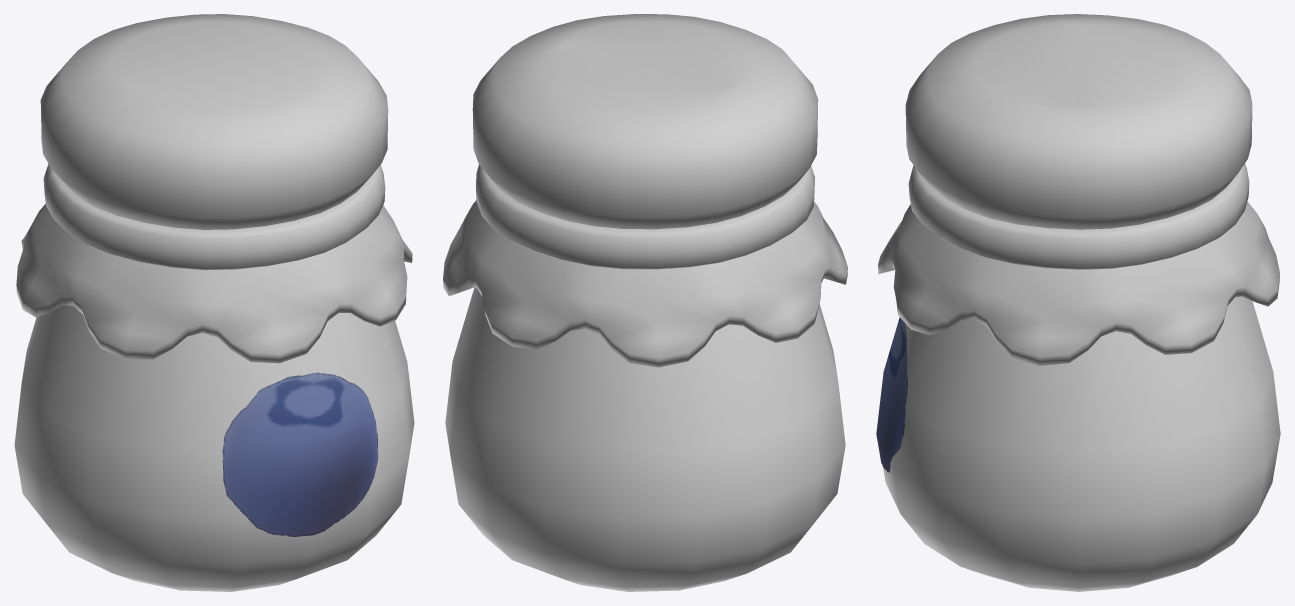
Rendered from blueberry_jam.fbx.
3 renders of one model, left to right at view 1: azimuth 30°, elevation 25°; view 2: azimuth 150°, elevation 25°; view 3: azimuth 270°, elevation 25°, orthographic.
Parts seen in each view (by area): view 1: blueberry_jam, blueberry_jam_glass, blueberry_jam_label; view 2: blueberry_jam, blueberry_jam_glass; view 3: blueberry_jam, blueberry_jam_glass, blueberry_jam_label.
Boxes of the visible parts, x1,y1,x2,y2 form: blueberry_jam: (16, 14, 412, 363); blueberry_jam_glass: (14, 305, 414, 591); blueberry_jam_label: (222, 372, 378, 536); blueberry_jam: (443, 14, 847, 367); blueberry_jam_glass: (445, 288, 845, 591); blueberry_jam: (878, 14, 1279, 365); blueberry_jam_glass: (883, 296, 1280, 591); blueberry_jam_label: (876, 317, 907, 472).
Bounding box in the file's own units: 0.8264 × 1.07 × 0.8287.
